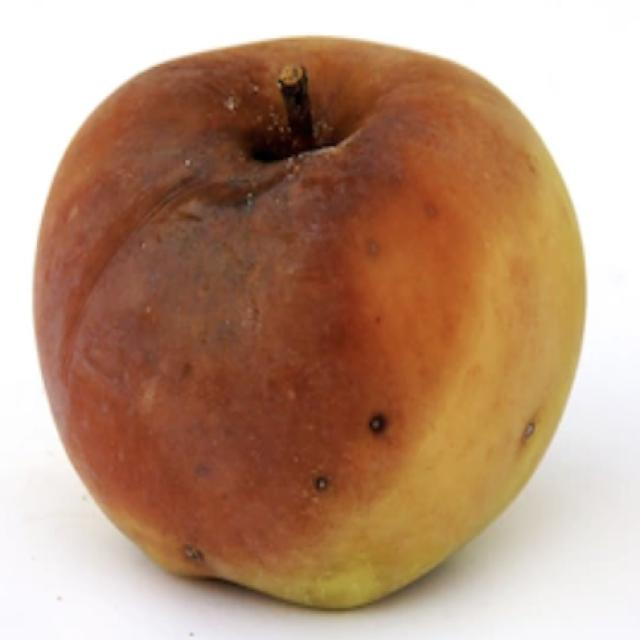apple: (35, 39, 585, 607)
